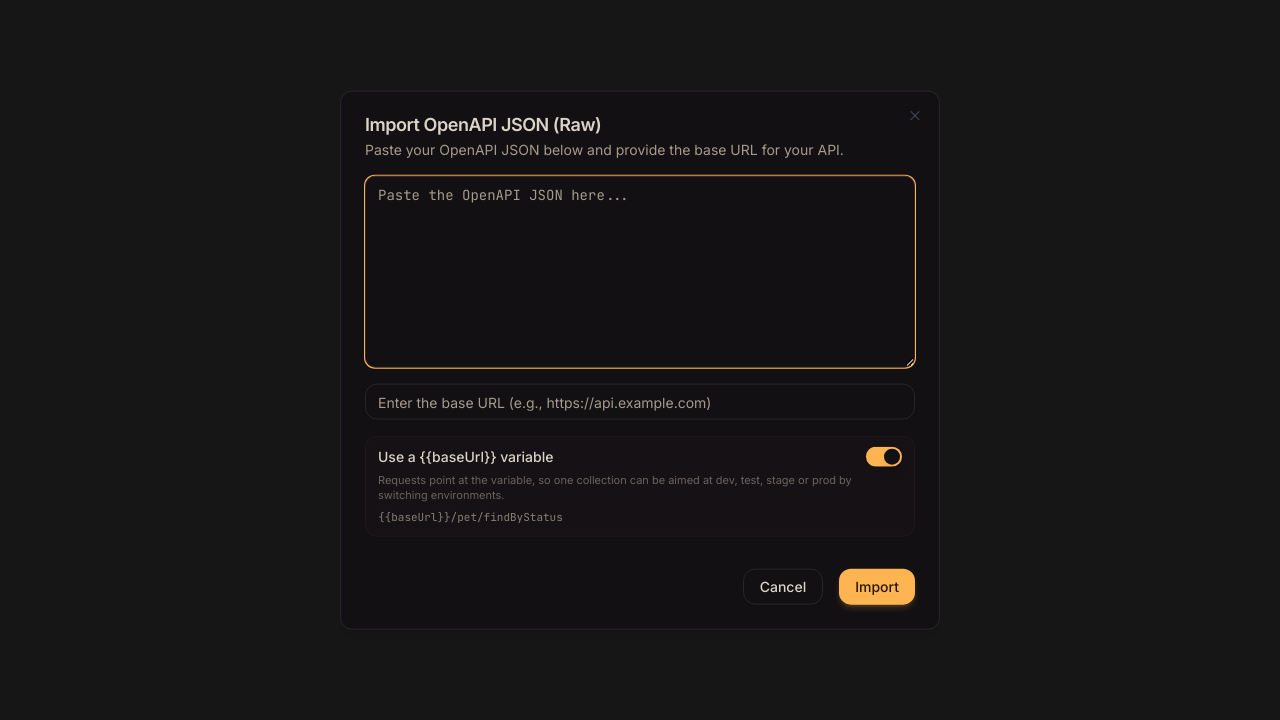
Test: OpenapiImportModal › validates empty JSON input
Click the button "Import" at point(877, 586), box [839, 568, 915, 604]
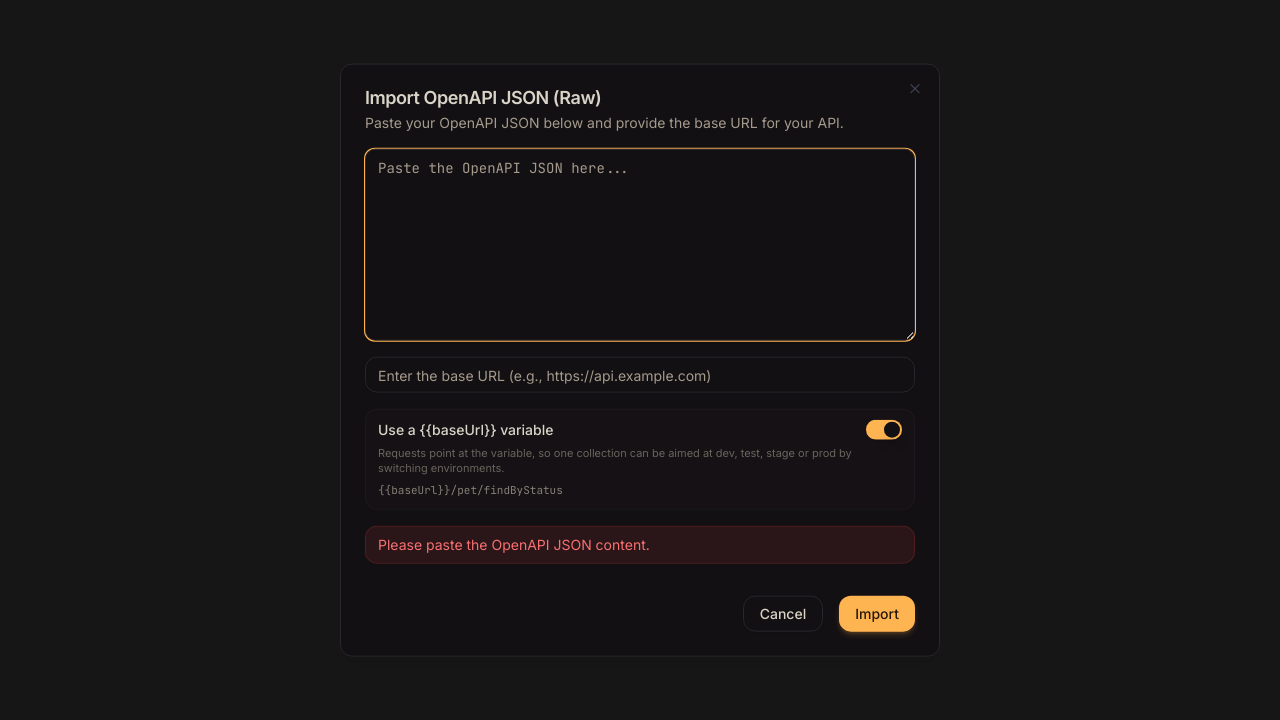
Expected: the text "Please paste the OpenAPI JSON content." is shown, [365, 525, 915, 563]
